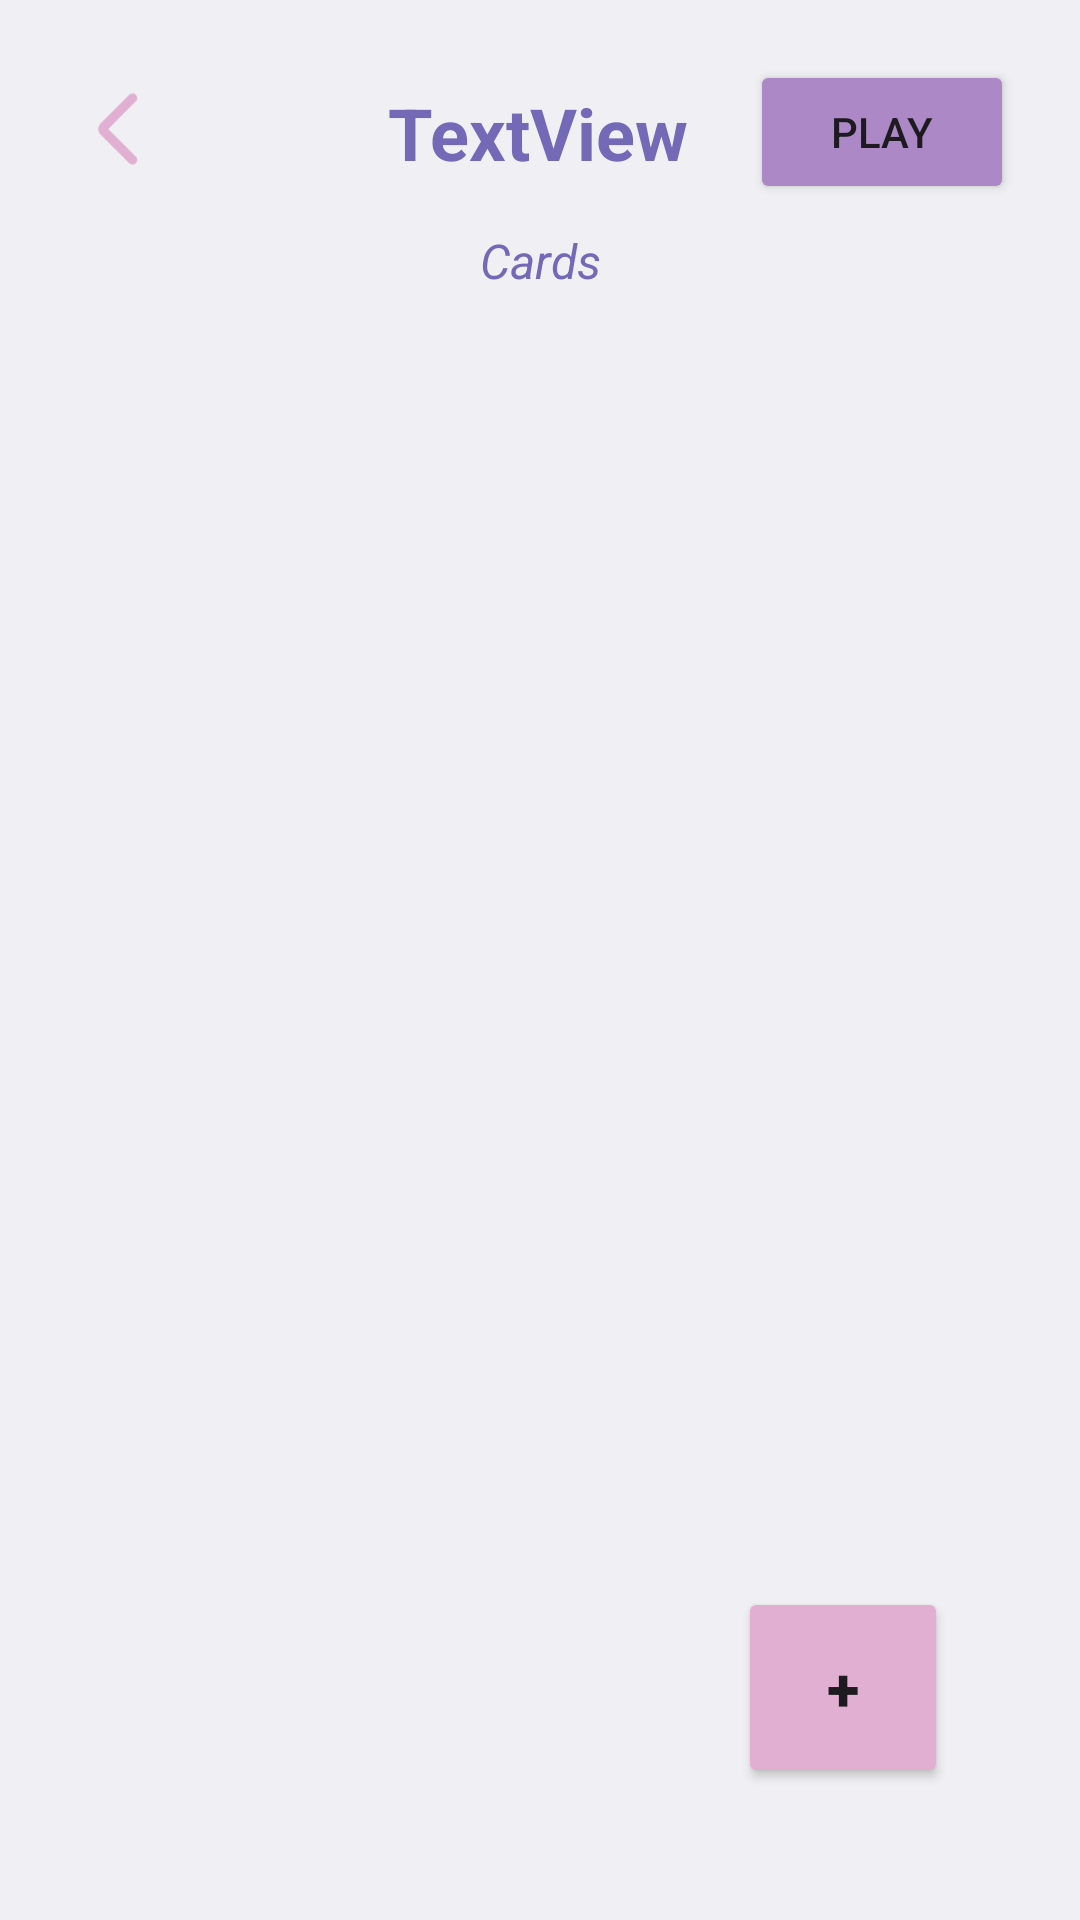

Icon bounding boxes for this 1080w x 1920h phone screenshot, format bbox(x1, y1, x2, y2):
back: bbox(98, 93, 137, 165)
